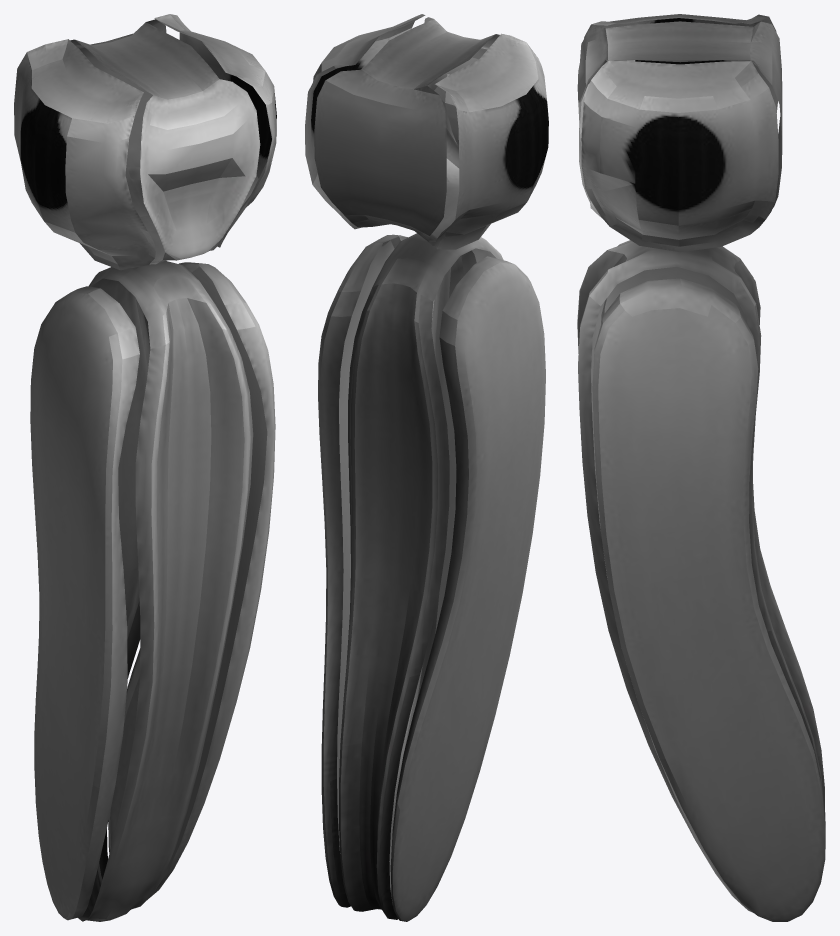
File: body.obj
3 views of the same model, side by side, from view 1: azimuth 30°, elevation 25°; view 2: azimuth 150°, elevation 25°; view 3: azimuth 270°, elevation 25° (orthographic). The views are drawn at different scales.
Visible parts, largest first — view 1: body.obj; view 2: body.obj; view 3: body.obj.
Boxes of the visible parts, left/top/right/bottom form: body.obj: left=14, top=14, right=276, bottom=921; body.obj: left=305, top=14, right=548, bottom=921; body.obj: left=577, top=14, right=825, bottom=921.
Bounding box in the file's own units: 0.3283 × 1.24 × 0.3209.
